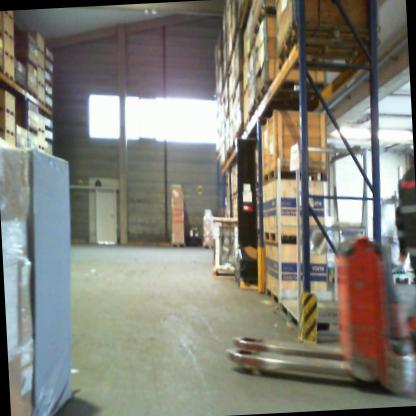pallet: (276, 25, 383, 77), (254, 73, 332, 122), (259, 159, 331, 187), (262, 223, 328, 251), (27, 88, 52, 114), (243, 31, 265, 60), (264, 284, 293, 303), (210, 265, 238, 278), (19, 55, 37, 72), (0, 102, 16, 119), (0, 125, 16, 138), (16, 78, 28, 93), (170, 240, 185, 250), (4, 69, 15, 82), (26, 125, 37, 136), (4, 49, 13, 61), (203, 243, 215, 252), (36, 143, 47, 152), (37, 79, 44, 93), (37, 125, 45, 136), (37, 63, 44, 71), (0, 57, 3, 73)
pallet_truck: (219, 229, 416, 405)
